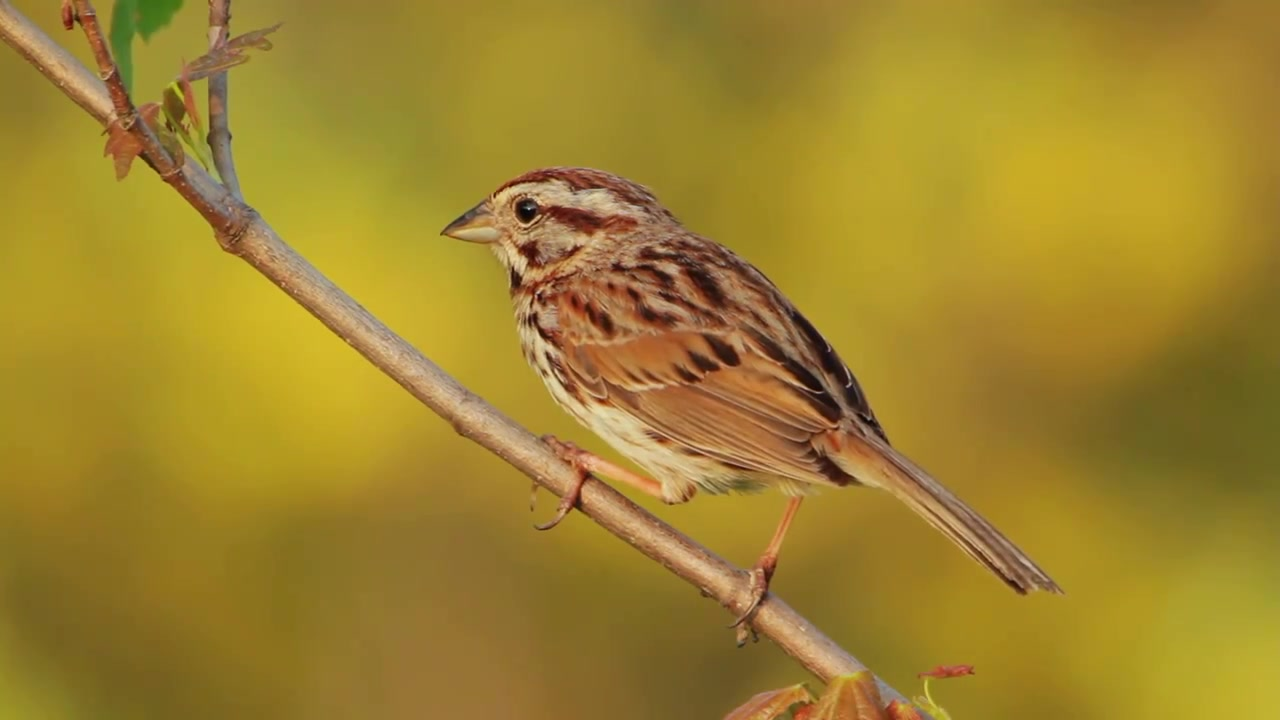bird: (438, 169, 1066, 652)
